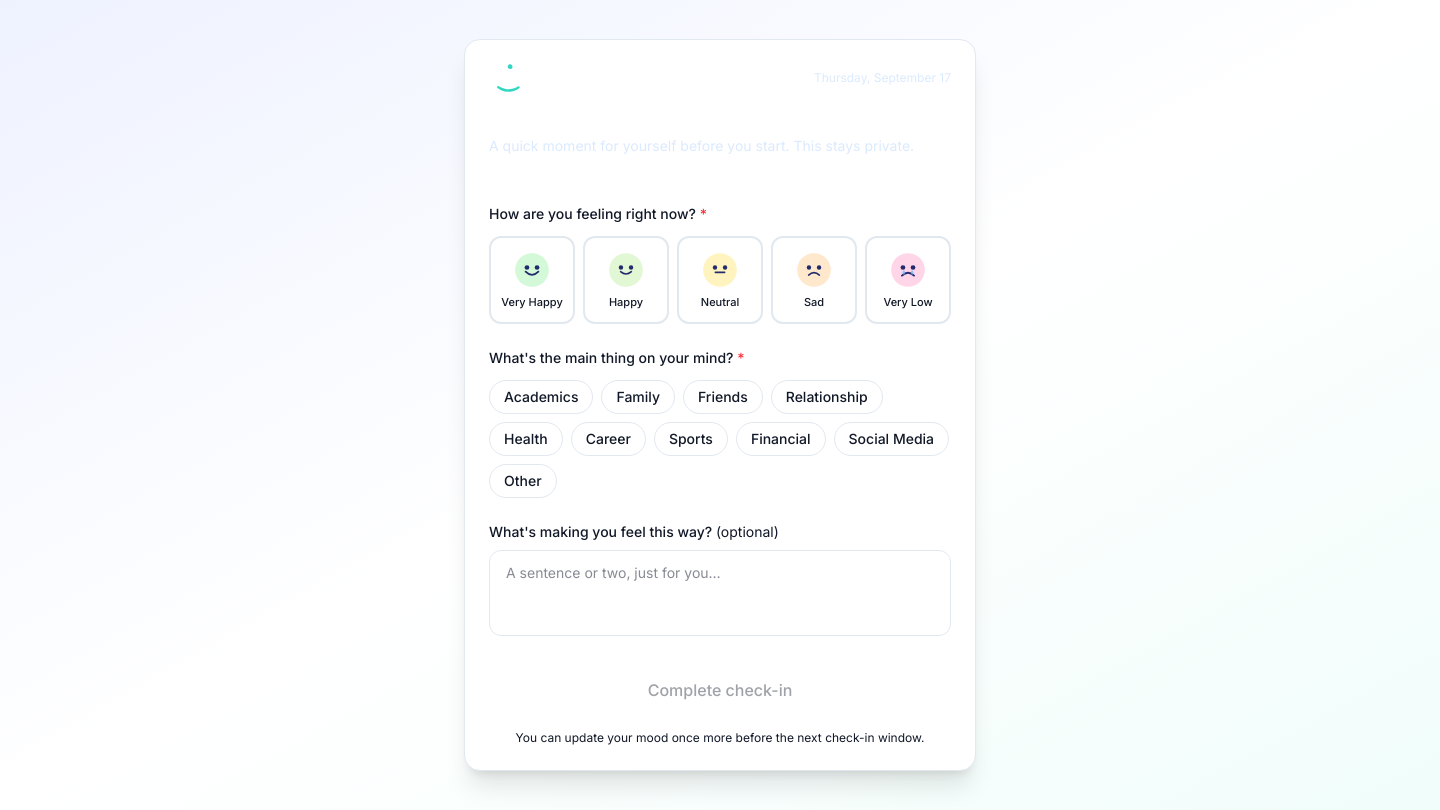
Test: DailyCheckinModal › keeps submit disabled until both mood and reason are chosen
This screenshot has width=1440, height=810.
Expected: the button "Complete check-in" is disabled, [489,666,951,714]
What coordinates should you click on to do the following:
click the button "Happy"
I would click on:
 (626, 280)
Its box is [583,236,669,324].
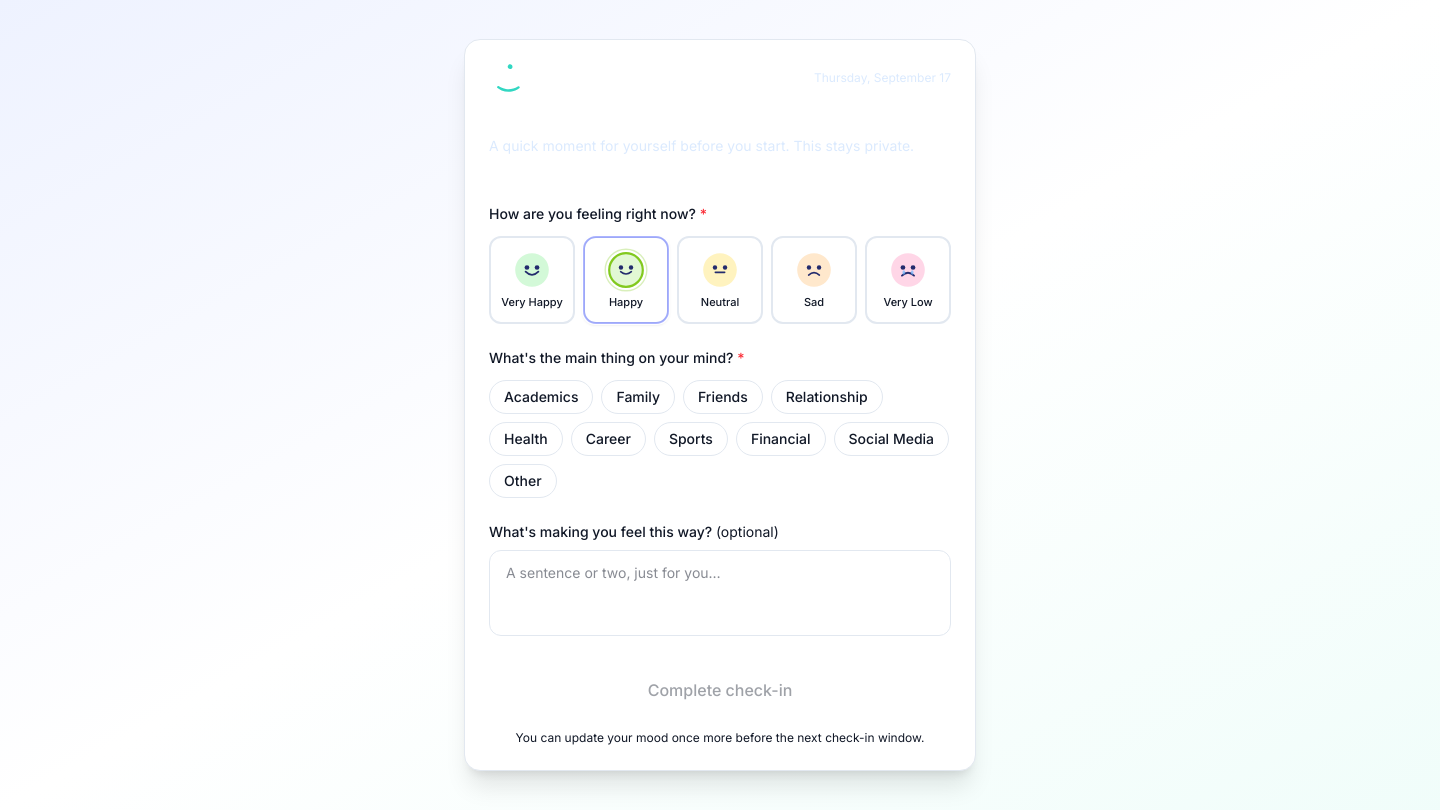
Expected: the button "Complete check-in" is disabled, [489,666,951,714]
What coordinates should you click on to do the following:
click the button "Academics"
I would click on:
 (541, 397)
Its box is [489,380,594,414].
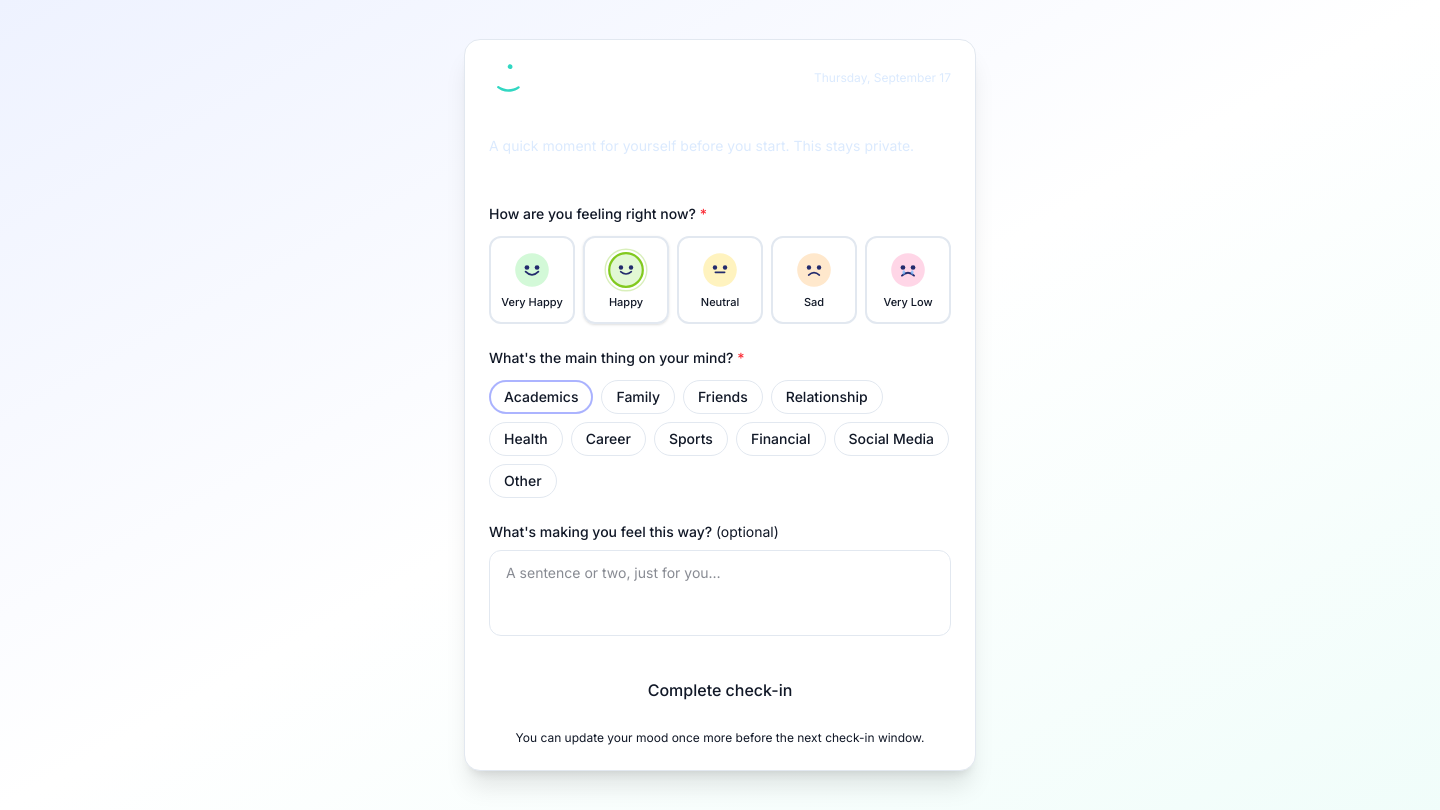
Expected: the button "Complete check-in" is enabled, [489,666,951,714]
